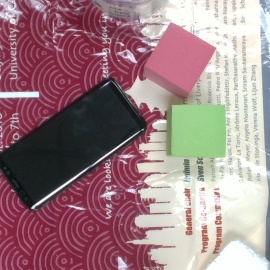phone: (3, 78, 148, 213)
